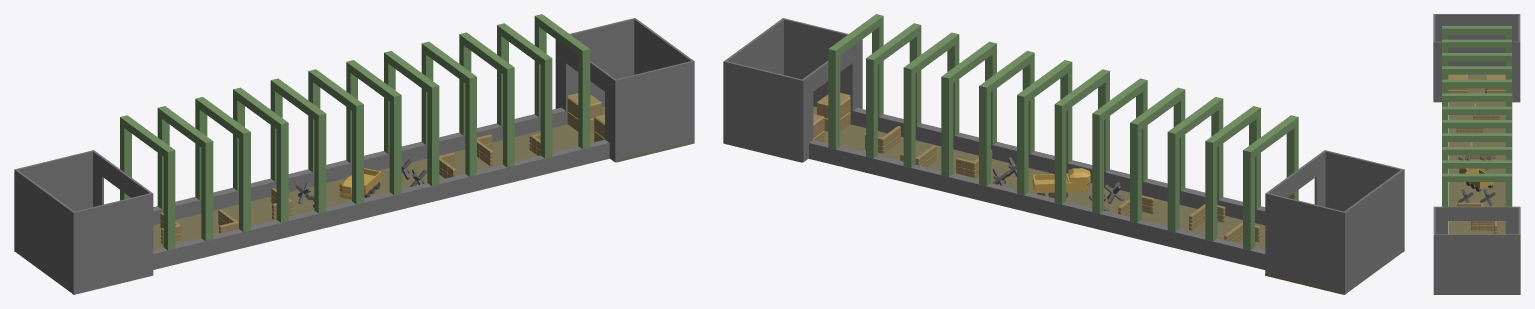
Rendered from LowPavlovVR_BridgeMap.fbx.
The picture shows the model from 3 angles, left to right: view 1: azimuth 30°, elevation 25°; view 2: azimuth 150°, elevation 25°; view 3: azimuth 270°, elevation 25°; orthographic projection. The views are drawn at different scales.
Parts seen in each view (by area): view 1: Cube.017, Cube.002, Cube.008, Cube.027; view 2: Cube.017, Cube.002, Cube.027, Cube.006, Cube.019; view 3: Cube.017, Cube.002, Cube.027, Cube.021, Cube.003, Cube.004, Cube.019, Cube.018, Cube.022, Cube.023, Cube.020, Cube.025.
Boxes of the visible parts, x1,y1,x2,y2 form: Cube.017: (14,14,694,294); Cube.002: (152,106,694,275); Cube.008: (567,93,601,131); Cube.027: (339,168,381,199); Cube.017: (723,14,1404,294); Cube.002: (724,106,1342,294); Cube.027: (1032,168,1090,198); Cube.006: (817,92,850,131); Cube.019: (1189,204,1225,230); Cube.017: (1433,14,1520,294); Cube.002: (1433,74,1520,294); Cube.027: (1459,168,1493,191); Cube.021: (1471,221,1497,234); Cube.003: (1485,74,1505,93); Cube.004: (1448,74,1467,93); Cube.019: (1456,128,1482,133); Cube.018: (1473,103,1499,119); Cube.022: (1457,202,1483,206); Cube.023: (1480,189,1495,205); Cube.020: (1469,142,1496,158); Cube.025: (1458,189,1473,202).
Bounding box in the file's own units: 4010 × 718 × 667.
